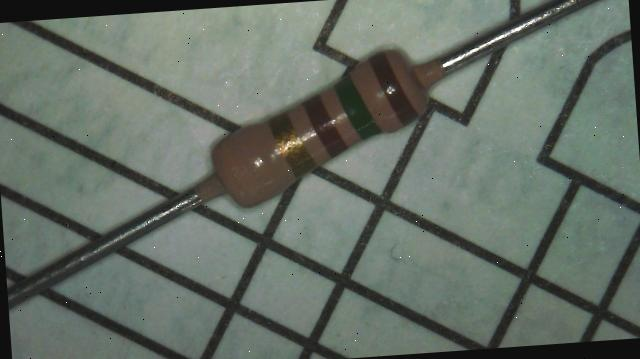brown: (368, 50, 418, 126), (303, 93, 347, 158)
gold: (269, 111, 316, 177)
green: (334, 72, 381, 140)
resistor: (174, 16, 468, 244)
